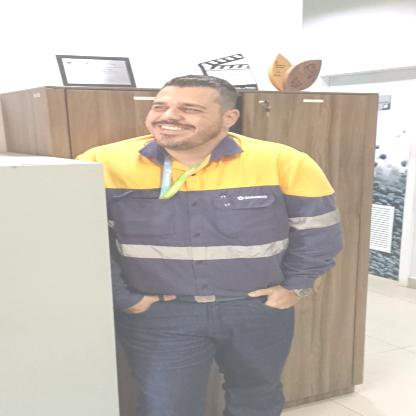Operacional: (67, 128, 347, 309)
